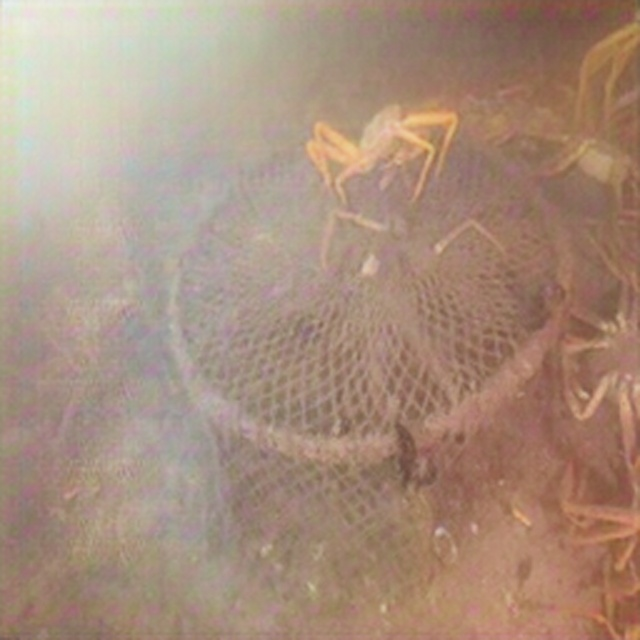mine: (167, 118, 573, 605)
